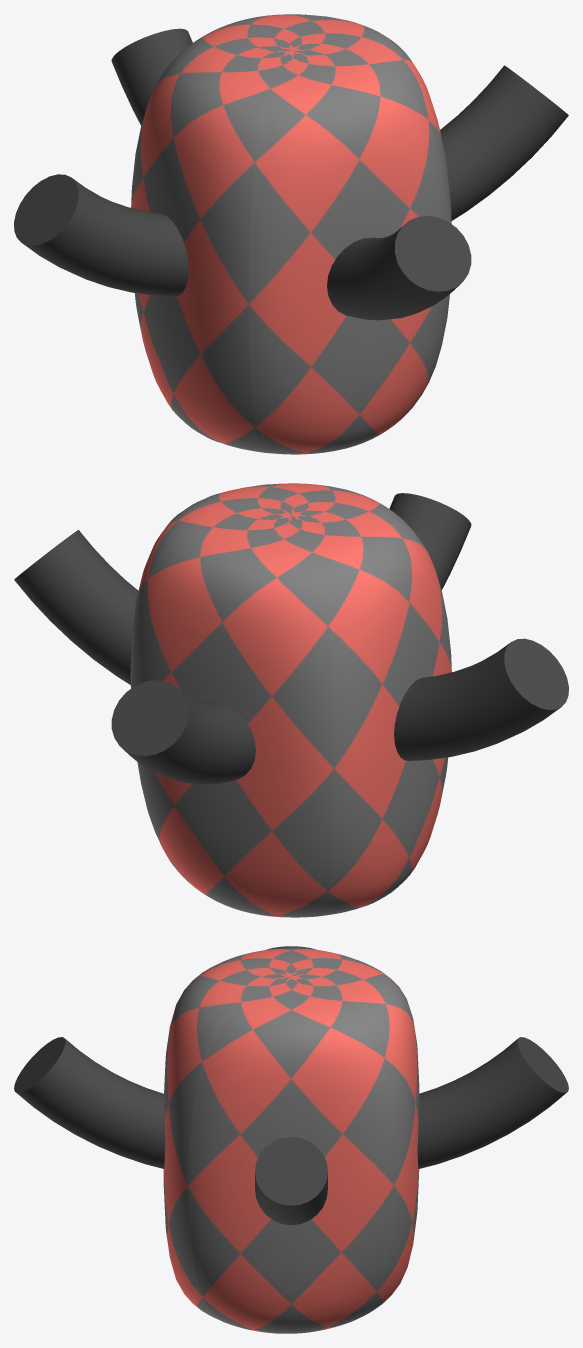
File: Body(Oblong)+Colour(More_Red)+Arms(Bent_Up)+Pattern(Diamond).fbx
3 renders of one model, top to bottom at view 1: azimuth 30°, elevation 25°; view 2: azimuth 150°, elevation 25°; view 3: azimuth 270°, elevation 25°, orthographic. The views are drawn at different scales.
Parts seen in each view (by area): view 1: Body(Oblong)+Colour(More_Red)+Arms(Bent_Up)+Pattern(Diamond) (×5); view 2: Body(Oblong)+Colour(More_Red)+Arms(Bent_Up)+Pattern(Diamond) (×5); view 3: Body(Oblong)+Colour(More_Red)+Arms(Bent_Up)+Pattern(Diamond) (×4).
Boxes of the visible parts, <box> form: Body(Oblong)+Colour(More_Red)+Arms(Bent_Up)+Pattern(Diamond) (×5): <box>14,14,568,454</box>; Body(Oblong)+Colour(More_Red)+Arms(Bent_Up)+Pattern(Diamond) (×5): <box>14,483,568,917</box>; Body(Oblong)+Colour(More_Red)+Arms(Bent_Up)+Pattern(Diamond) (×4): <box>14,948,568,1333</box>.
Bounding box in the file's own units: 60.67 × 40 × 60.67.
2 materials, 2 textured.
